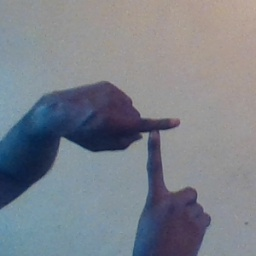T: (110, 91, 208, 206)
